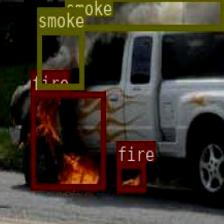fire: (30, 91, 104, 189), (116, 162, 145, 192)
smoke: (63, 0, 223, 29), (36, 27, 83, 88)
